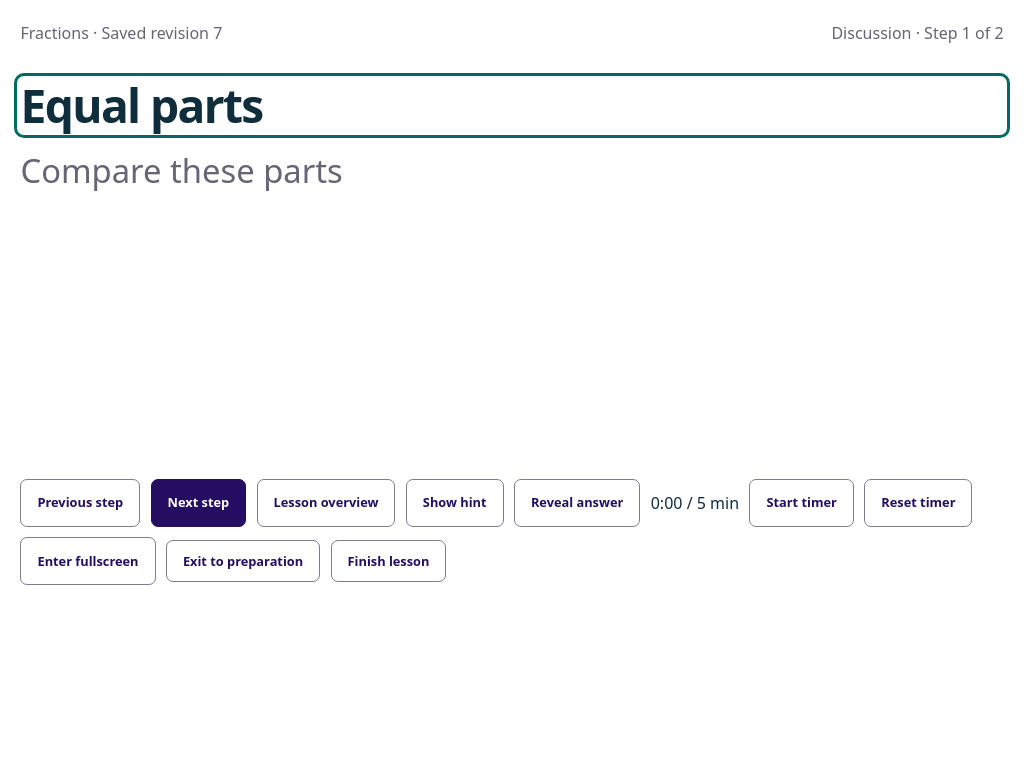
Test: projection-safe classroom teaching › pins revision, hides all private guidance, reveals only on demand and resets on navigation
expect the text "Fractions · Saved revision 7" is shown: met, box left=20, top=20, right=222, bottom=47
expect the text "Hint: Compare their size" is not shown: met
Click the button "Show hint".
click(455, 503)  # box left=406, top=479, right=504, bottom=527
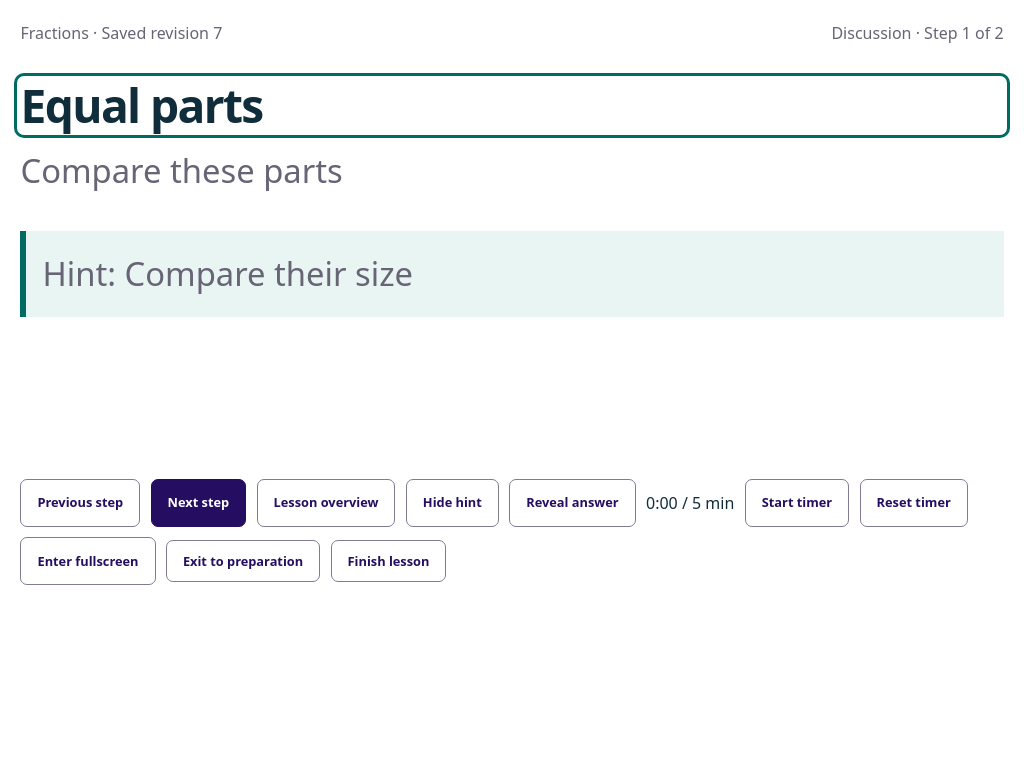
expect the text "Hint: Compare their size" is shown: met, box left=20, top=231, right=1004, bottom=317
Click the button "Reveal answer".
click(572, 503)  # box left=509, top=479, right=636, bottom=527
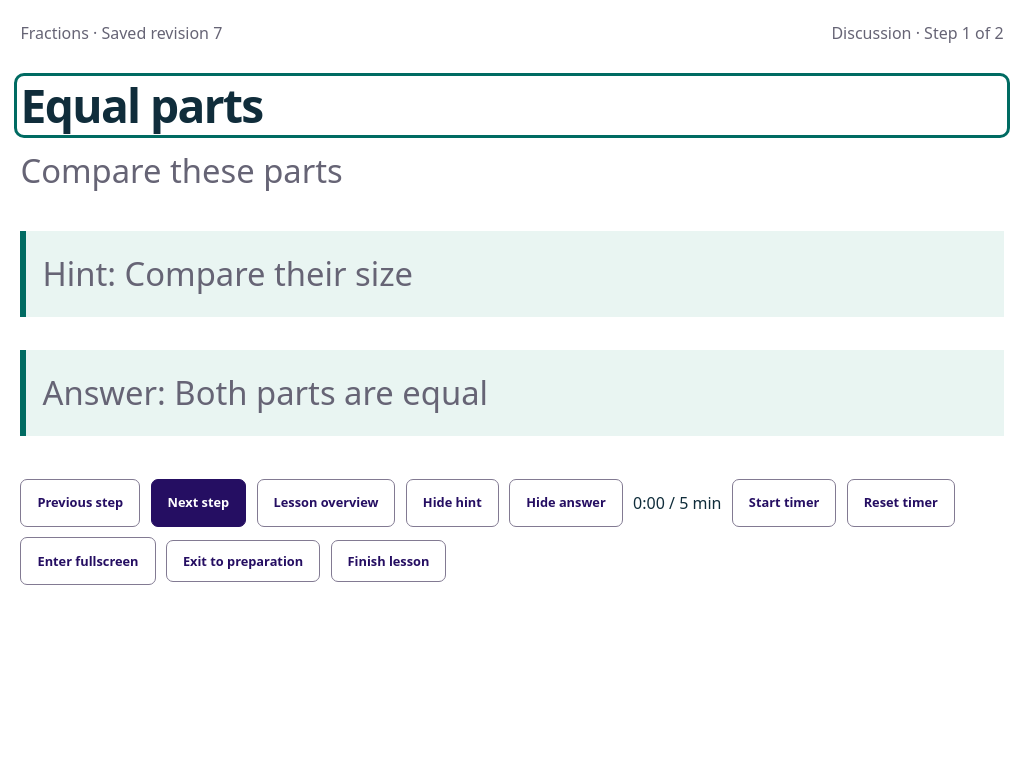
expect the text "Answer: Both parts are equal" is shown: met, box left=20, top=350, right=1004, bottom=436
Click the button "Next step".
click(198, 503)  # box left=150, top=479, right=246, bottom=527
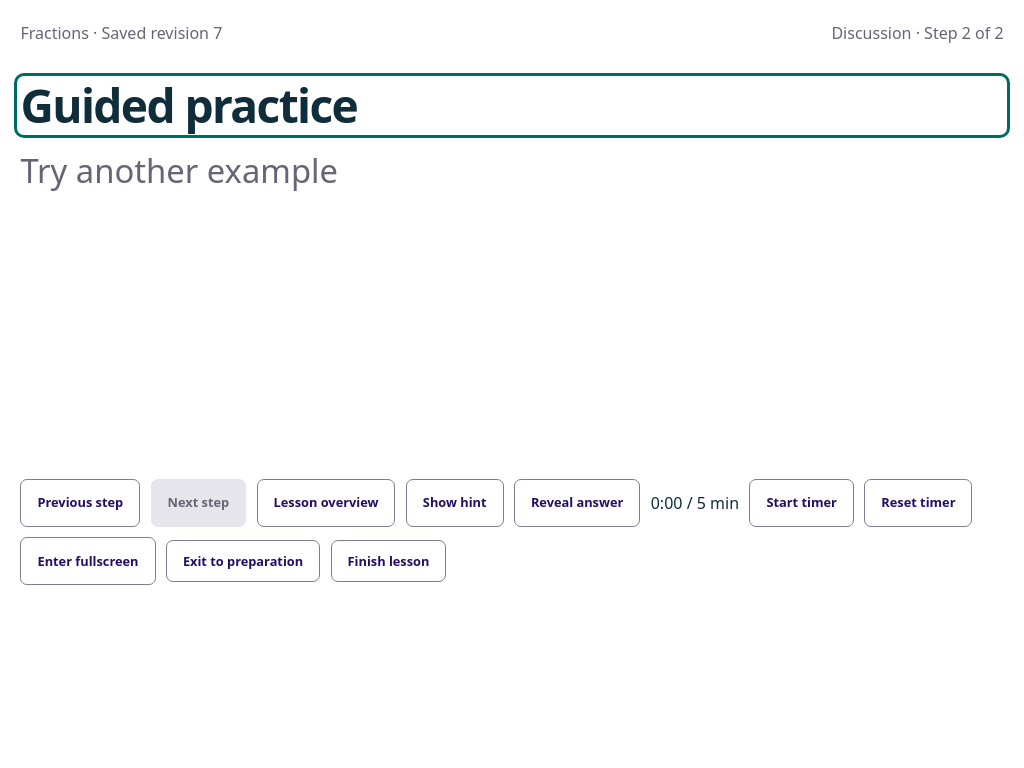
expect the text "Try another example" is shown: met, box left=20, top=148, right=338, bottom=193
expect the text "Hint: Compare their size" is gone: met
expect the text "Answer: Both parts are equal" is gone: met
